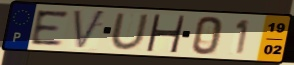0: (190, 15, 225, 56)
1: (234, 18, 250, 56)
E: (29, 9, 71, 47)
H: (144, 13, 188, 54)
U: (109, 12, 151, 51)
V: (71, 9, 108, 52)
